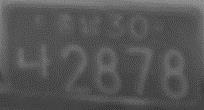0: (129, 13, 149, 39)
2: (60, 44, 91, 94)
3: (106, 13, 125, 39)
7: (126, 47, 155, 97)
8: (160, 47, 188, 98), (94, 46, 121, 96)
나: (16, 43, 54, 78)
충남_O: (55, 12, 103, 37)
